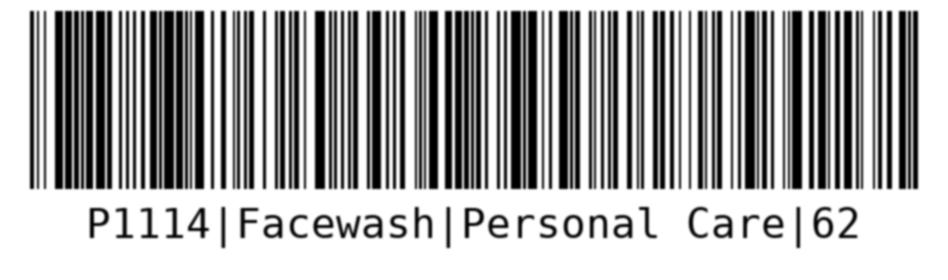milk: (24, 6, 926, 269)
